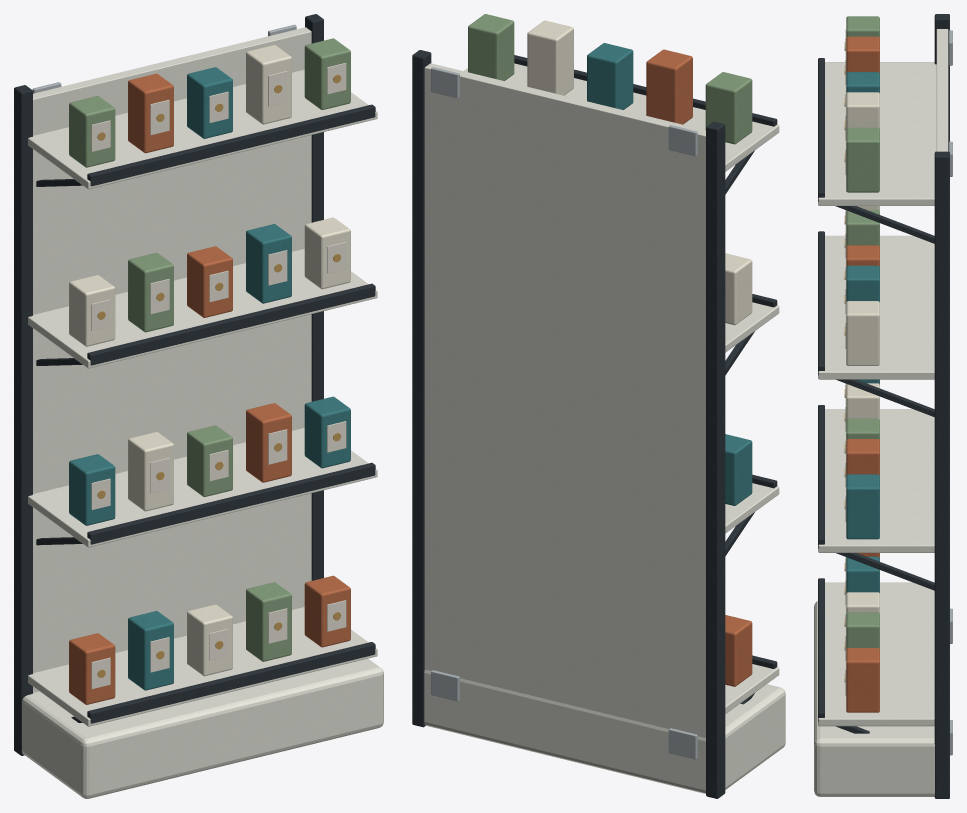
Rendered from duvar_rafi.glb.
3 renders of one model, left to right at view 1: azimuth 30°, elevation 25°; view 2: azimuth 150°, elevation 25°; view 3: azimuth 270°, elevation 25°, orthographic. The views are drawn at different scales.
Visible parts, largest first — view 1: Shelving central back, Shelving base, Shelving upright, Adjustable metal display shelf.003, Adjustable metal display shelf.001, Adjustable metal display shelf.002, Adjustable metal display shelf, Shelf front ticket rail.002, Shelf front ticket rail.003, Shelf front ticket rail.001, Shelf front ticket rail, Shelving upright.001 (+20 smaller); view 2: Shelving central back, Shelving base, Shelving upright, Shelving upright.001, Original unbranded product carton.016, Original unbranded product carton.018, Original unbranded product carton.019, Original unbranded product carton.017, Original unbranded product carton.015, Adjustable metal display shelf.003, Original unbranded product carton, Original unbranded product carton.005 (+9 smaller); view 3: Adjustable metal display shelf.003, Adjustable metal display shelf, Adjustable metal display shelf.002, Adjustable metal display shelf.001, Shelving upright.001, Shelving base, Original unbranded product carton.009, Original unbranded product carton.019, Original unbranded product carton.004, Original unbranded product carton.014, Shelving central back, Original unbranded product carton.013 (+20 smaller).
Part boxes in pixels (x1,y1,x2,y2): Shelving central back: (33,27,311,692); Shelving base: (22,658,383,798); Shelving upright: (14,85,32,755); Adjustable metal display shelf.003: (28,69,377,189); Adjustable metal display shelf.001: (28,428,377,547); Adjustable metal display shelf.002: (28,249,377,368); Adjustable metal display shelf: (28,607,377,726); Shelf front ticket rail.002: (87,283,375,365); Shelf front ticket rail.003: (87,104,375,186); Shelf front ticket rail.001: (87,462,375,544); Shelf front ticket rail: (87,642,375,723); Shelving upright.001: (305,14,323,580); Shelving central back: (424,63,705,737); Shelving base: (424,669,785,793); Shelving upright: (706,121,725,798); Shelving upright.001: (412,50,431,727); Original unbranded product carton.016: (646,49,692,124); Original unbranded product carton.018: (527,20,573,95); Original unbranded product carton.019: (468,14,514,80); Original unbranded product carton.017: (587,43,633,109); Original unbranded product carton.015: (705,72,752,144); Adjustable metal display shelf.003: (464,63,779,171); Original unbranded product carton: (725,615,752,686); Original unbranded product carton.005: (725,434,752,505); Adjustable metal display shelf.003: (818,62,936,205); Adjustable metal display shelf: (818,582,934,726); Adjustable metal display shelf.002: (818,235,934,379); Adjustable metal display shelf.001: (818,409,934,552); Shelving upright.001: (934,151,949,798); Shelving base: (814,601,934,796); Original unbranded product carton.009: (846,474,879,539); Original unbranded product carton.019: (846,127,879,192); Original unbranded product carton.004: (846,648,879,712); Original unbranded product carton.014: (846,301,879,365); Shelving central back: (936,29,948,151); Original unbranded product carton.013: (846,265,879,302).
Bounding box in the file's own units: 1 × 2.15 × 0.411.
Materials: 9 (9 with a texture image).
